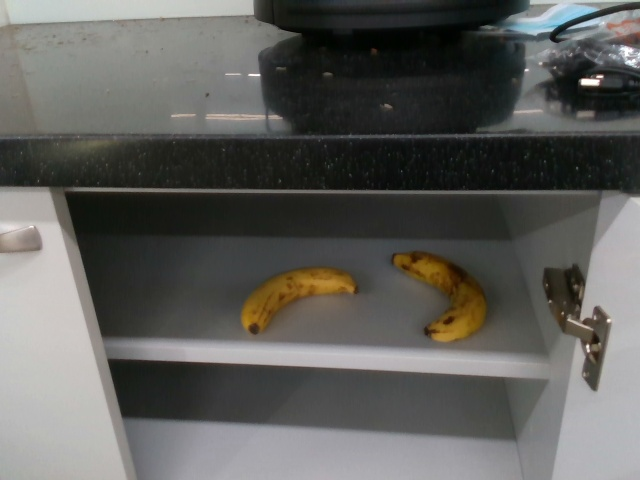banana: (388, 249, 489, 345), (238, 266, 358, 335)
